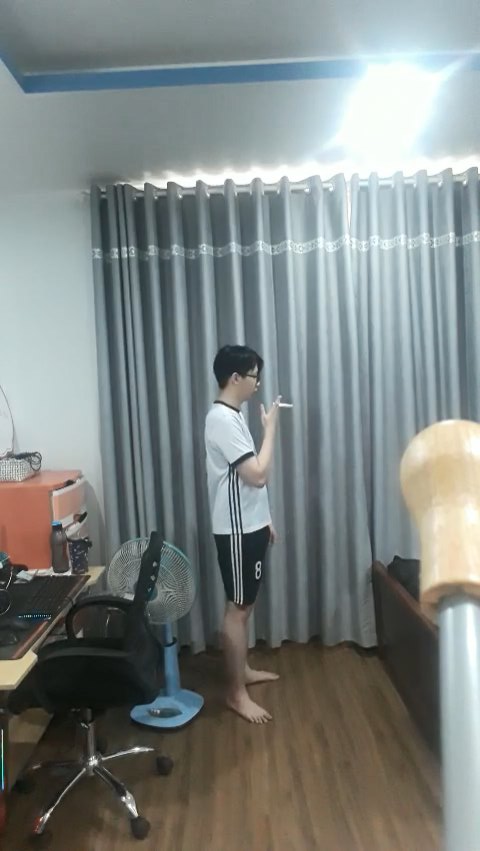cigarette: (276, 402, 296, 409)
person: (182, 332, 296, 734)
